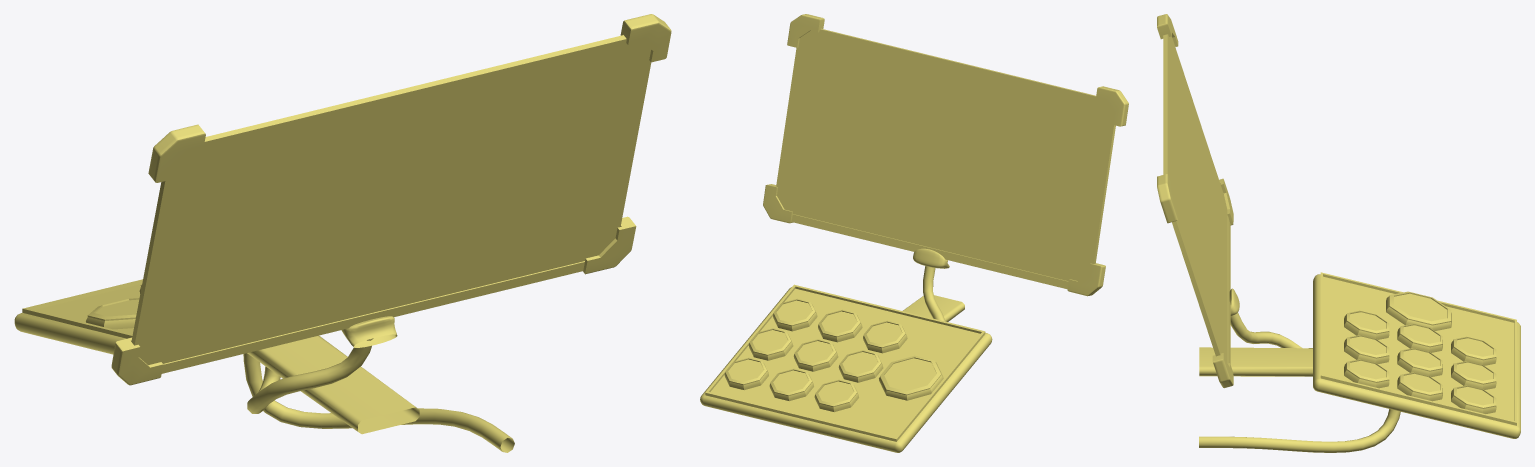
File: terminal.fbx
3 renders of one model, left to right at view 1: azimuth 30°, elevation 25°; view 2: azimuth 150°, elevation 25°; view 3: azimuth 270°, elevation 25°, orthographic. The views are drawn at different scales.
Visible parts, largest first — view 1: terminal; view 2: terminal; view 3: terminal.
Part boxes in pixels (bbox=[...]): terminal: bbox=[14, 14, 671, 452]; terminal: bbox=[700, 14, 1128, 452]; terminal: bbox=[1157, 14, 1520, 452].
Bounding box in the file's own units: 1.49 × 1.29 × 1.27.
